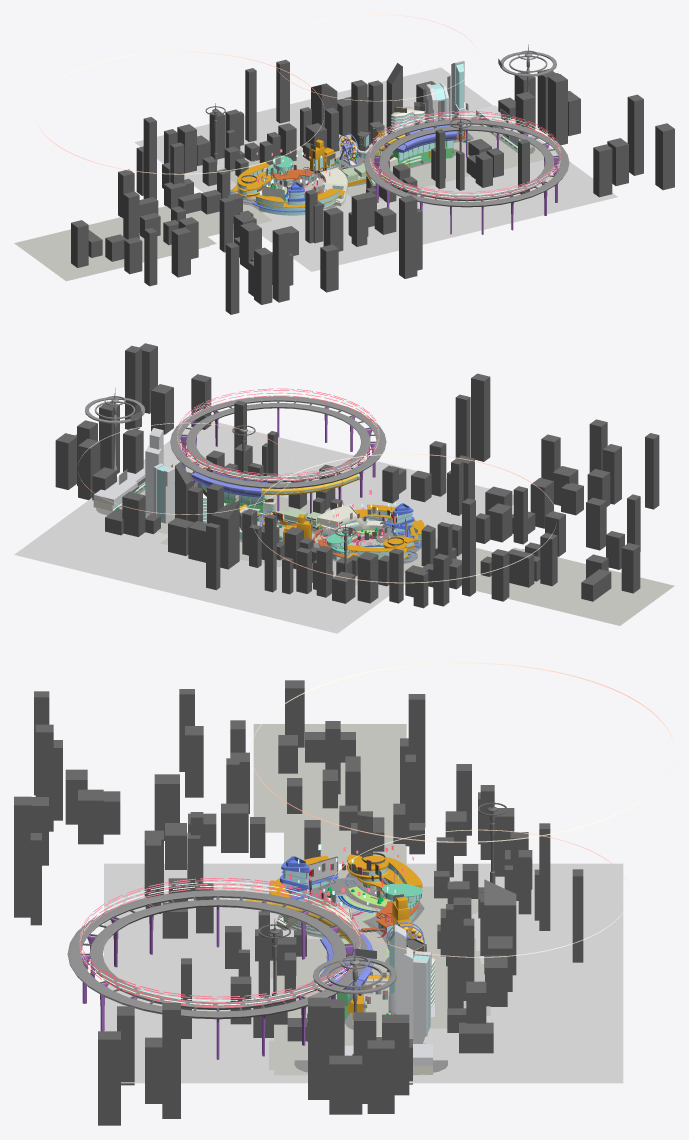
File: out-physics.glb
The picture shows the model from 3 angles, top to bottom: view 1: azimuth 30°, elevation 25°; view 2: azimuth 150°, elevation 25°; view 3: azimuth 270°, elevation 25°; orthographic projection. The views are drawn at different scales.
Parts seen in each view (by area): view 1: background_buildng_2067, 平面.002, Object509, world_ground layer, light ring_autorotate, 06 arch_1, world_glass_uv2, 圆环.001, Object468, world_glass_uv2.001, 06 arch_1.001, 10 arch_3.001 (+7 smaller); view 2: background_buildng_2067, 平面.002, Object509, world_ground layer, 06 arch_1, light ring_autorotate, 圆环.001, world_glass_uv2, Object468, 07 arch_2.001, 06 arch_1.001, 10 arch_3.001 (+4 smaller); view 3: background_buildng_2067, 平面.002, Object509, world_ground layer, light ring_autorotate, 06 arch_1, Square_BasicGround_uv2, 圆环.001, Object468, 10 arch_3.001, world_ground layer.004, 06 arch_1.001 (+3 smaller).
Boxes of the visible parts, x1=… form: background_buildng_2067: x1=71, y1=59, x2=674, y2=314; 平面.002: x1=135, y1=67, x2=617, y2=271; Object509: x1=14, y1=124, x2=543, y2=281; world_ground layer: x1=306, y1=116, x2=569, y2=207; light ring_autorotate: x1=369, y1=111, x2=561, y2=199; 06 arch_1: x1=341, y1=60, x2=535, y2=165; world_glass_uv2: x1=313, y1=63, x2=517, y2=184; 圆环.001: x1=35, y1=14, x2=477, y2=174; Object468: x1=302, y1=124, x2=559, y2=234; world_glass_uv2.001: x1=237, y1=169, x2=343, y2=215; 06 arch_1.001: x1=231, y1=162, x2=345, y2=207; 10 arch_3.001: x1=500, y1=44, x2=556, y2=92; background_buildng_2067: x1=55, y1=343, x2=659, y2=608; 平面.002: x1=14, y1=421, x2=513, y2=633; Object509: x1=119, y1=490, x2=674, y2=625; world_ground layer: x1=96, y1=396, x2=386, y2=547; 06 arch_1: x1=93, y1=428, x2=266, y2=534; light ring_autorotate: x1=177, y1=388, x2=379, y2=481; 圆环.001: x1=78, y1=422, x2=556, y2=583; world_glass_uv2: x1=113, y1=465, x2=360, y2=539; Object468: x1=180, y1=402, x2=376, y2=544; 07 arch_2.001: x1=317, y1=505, x2=387, y2=558; 06 arch_1.001: x1=346, y1=504, x2=424, y2=558; 10 arch_3.001: x1=85, y1=388, x2=145, y2=470; background_buildng_2067: x1=14, y1=680, x2=583, y2=1125; 平面.002: x1=104, y1=863, x2=623, y2=1083; Object509: x1=253, y1=724, x2=490, y2=1075; world_ground layer: x1=67, y1=890, x2=447, y2=1075; light ring_autorotate: x1=79, y1=878, x2=360, y2=1007; 06 arch_1: x1=344, y1=925, x2=434, y2=1065; Square_BasicGround_uv2: x1=265, y1=827, x2=481, y2=1069; 圆环.001: x1=250, y1=662, x2=674, y2=957; Object468: x1=81, y1=898, x2=419, y2=1059; 10 arch_3.001: x1=313, y1=944, x2=396, y2=1055; world_ground layer.004: x1=277, y1=877, x2=424, y2=938; 06 arch_1.001: x1=269, y1=855, x2=422, y2=918.
Size of what is drawn, in the model's own units: 1388 by 227 by 976.
Materials: 52 (6 with a texture image).
